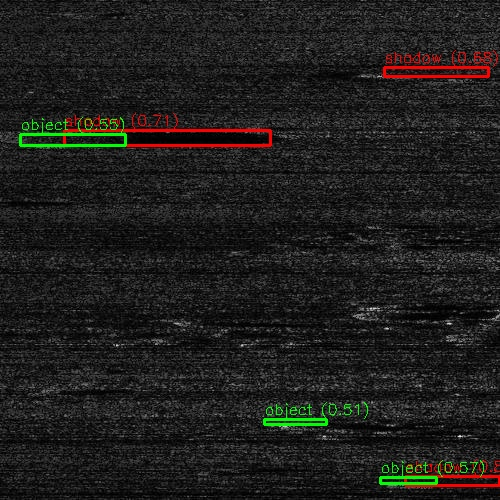rock: (415, 301, 500, 322), (0, 128, 89, 143), (439, 326, 492, 343), (261, 416, 334, 427), (379, 479, 432, 486), (363, 70, 416, 75), (141, 318, 194, 323)
shadow: (27, 128, 188, 143), (298, 416, 407, 427), (406, 479, 500, 486), (466, 326, 500, 343), (390, 70, 494, 75), (168, 318, 238, 323), (0, 196, 14, 203)
